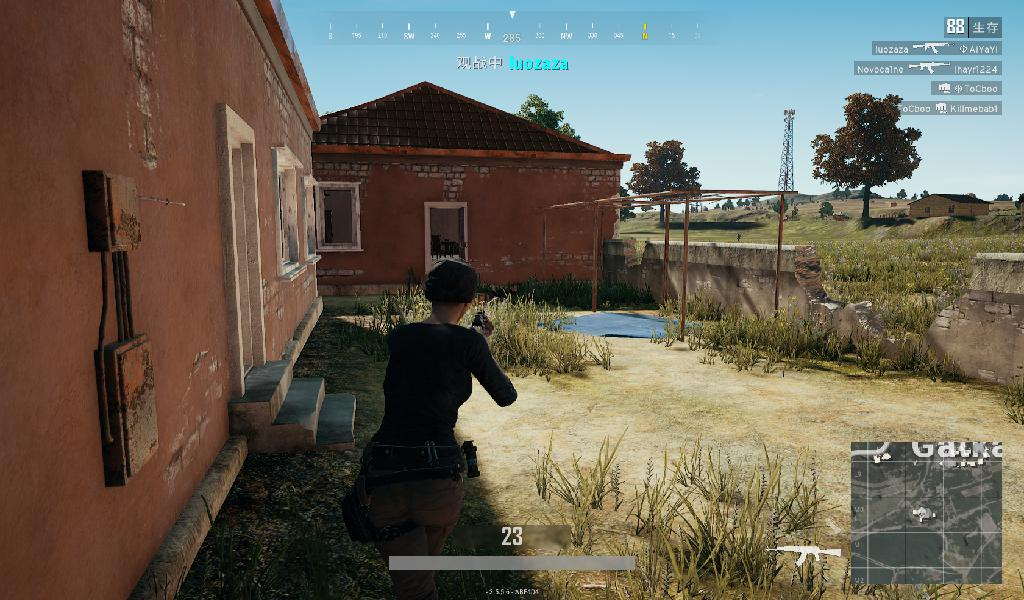Target Person: (355, 258, 517, 600)
